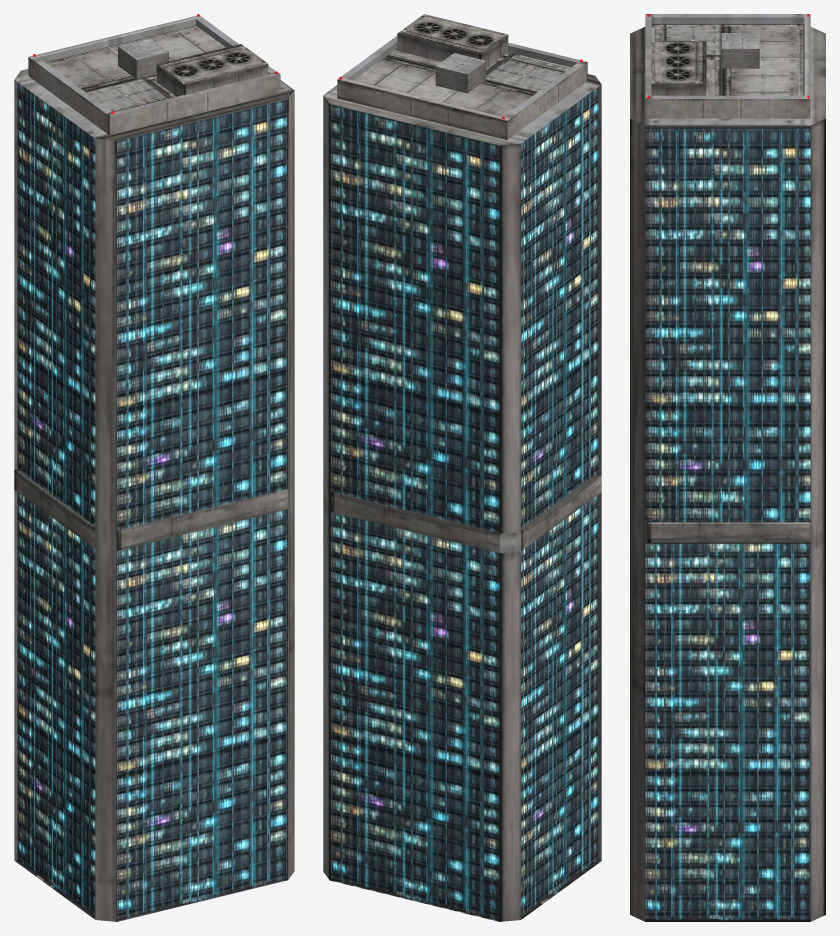
Rendered from 2026-custom-skyscraper-5.glb.
The picture shows the model from 3 angles, left to right: view 1: azimuth 30°, elevation 25°; view 2: azimuth 150°, elevation 25°; view 3: azimuth 270°, elevation 25°; orthographic projection. The views are drawn at different scales.
Parts seen in each view (by area): view 1: 2026-custom-skyscraper5; view 2: 2026-custom-skyscraper5; view 3: 2026-custom-skyscraper5.
Part boxes in pixels (<box>): 2026-custom-skyscraper5: <box>14,14,294,921</box>; 2026-custom-skyscraper5: <box>323,14,601,921</box>; 2026-custom-skyscraper5: <box>630,14,825,921</box>.
Size of the model in its own units: 70.42 by 275 by 58.77.
2 materials, 1 textured.
